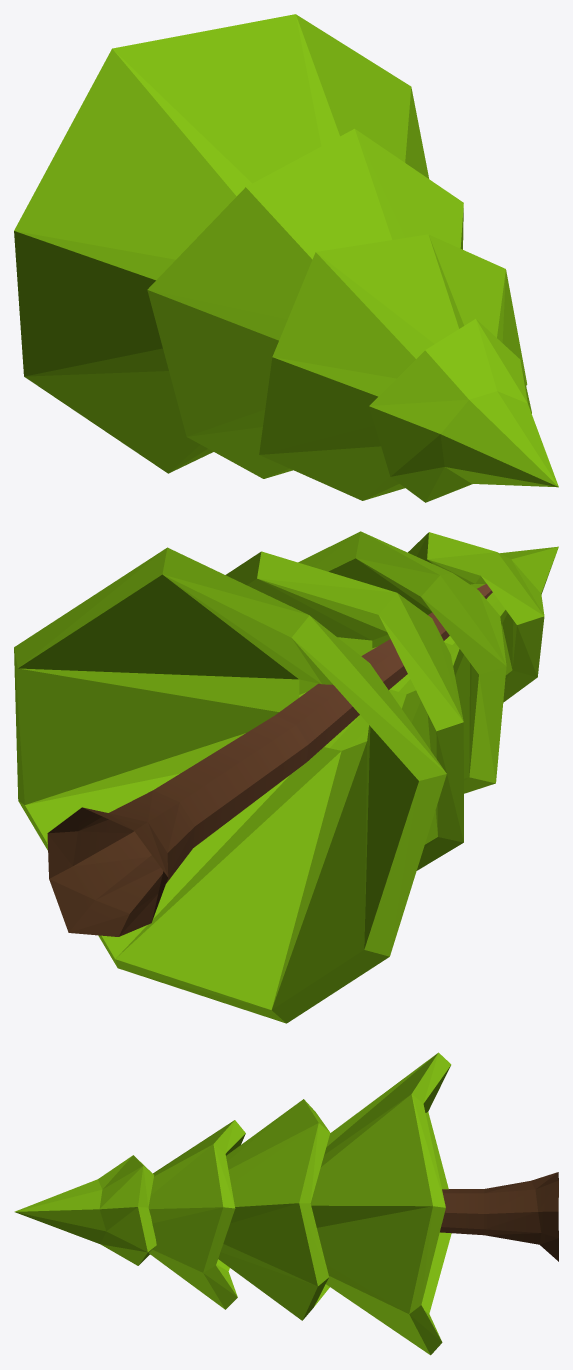
Rendered from sxh_tree_003.gltf.
3 renders of one model, top to bottom at view 1: azimuth 30°, elevation 25°; view 2: azimuth 150°, elevation 25°; view 3: azimuth 270°, elevation 25°, orthographic. The views are drawn at different scales.
Size of the model in its own units: 27.37 by 26.6 by 49.34.
Materials: 1 (1 with a texture image).
